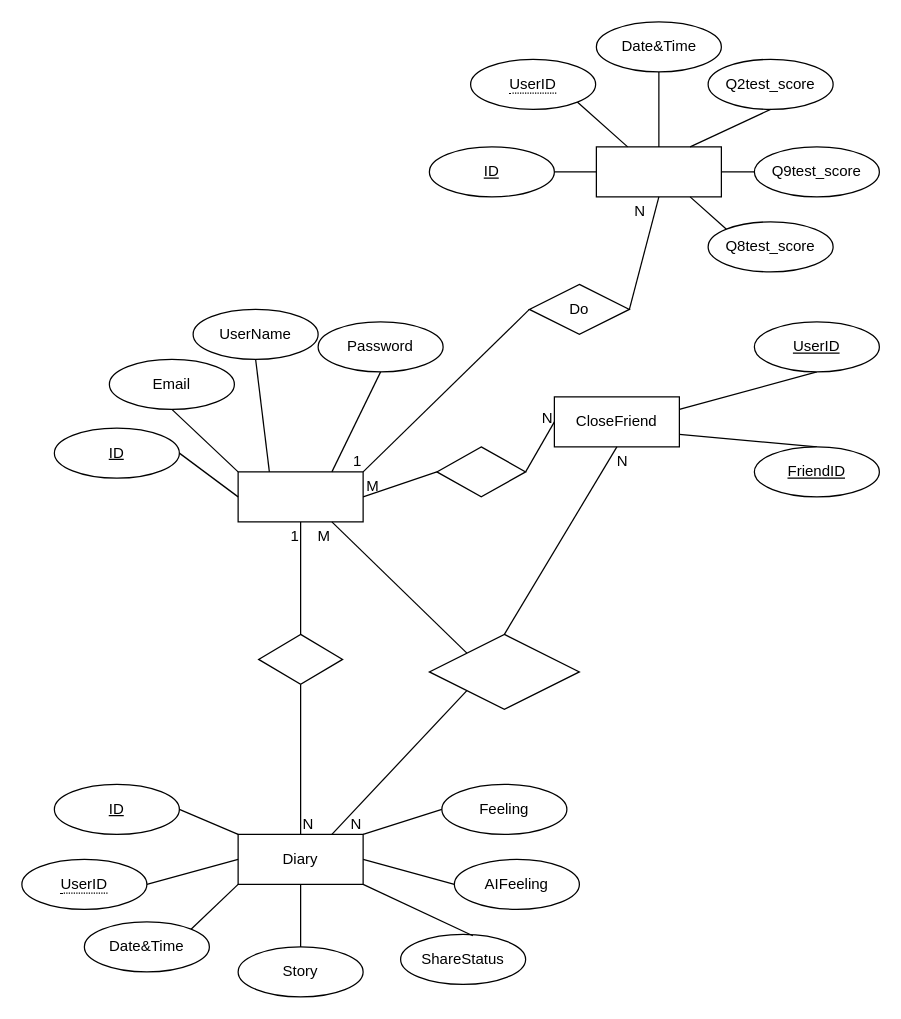
Image size: 901x1019. Some labels were removed from this diagram. The box of each missing label's shape, as (x1, y1, x2, y2) in pixels:
Have: (436, 446, 526, 497)
questionnaire: (595, 146, 721, 197)
Share: (428, 633, 579, 709)
Users: (237, 471, 363, 522)
Write: (257, 633, 343, 684)
